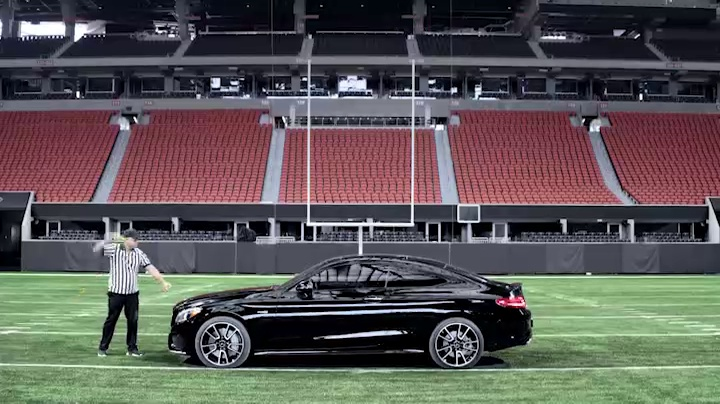amg: (172, 254, 539, 367)
